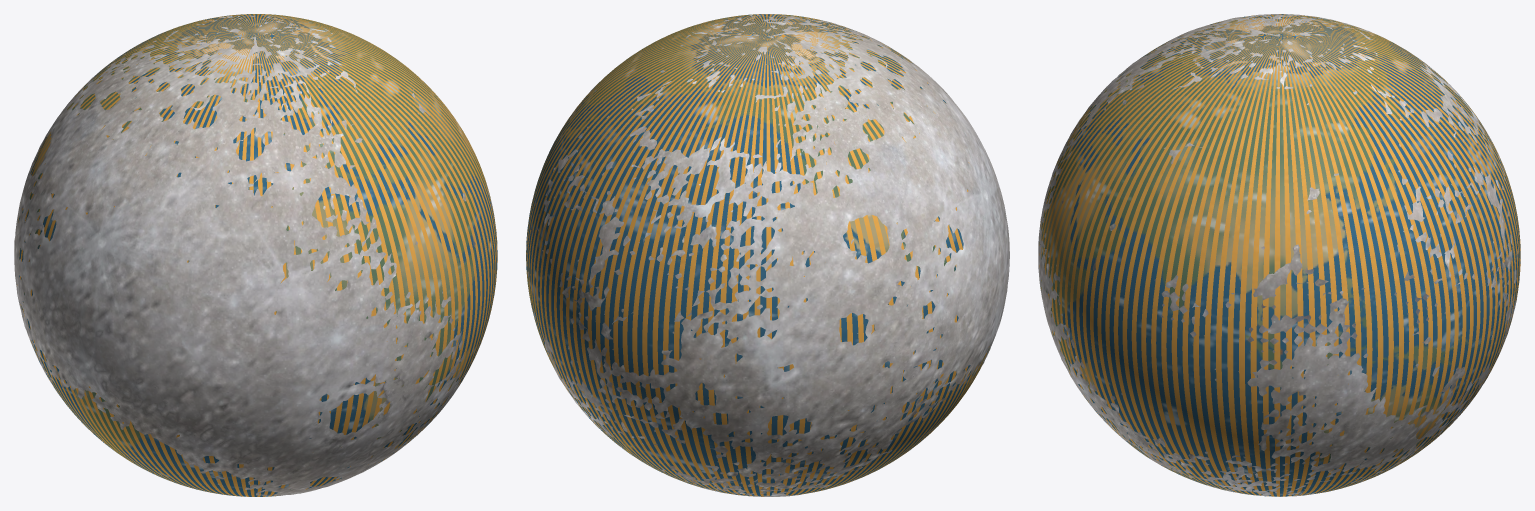
Rendered from sun-earth-moon.glb.
The picture shows the model from 3 angles, left to right: view 1: azimuth 30°, elevation 25°; view 2: azimuth 150°, elevation 25°; view 3: azimuth 270°, elevation 25°; orthographic projection.
Parts seen in each view (by area): view 1: moon-body, sun-body, earth-body; view 2: moon-body, earth-body, sun-body; view 3: sun-body, earth-body, moon-body.
Boxes of the visible parts, left/top/right/bottom form: moon-body: left=14, top=14, right=493, bottom=495; sun-body: left=17, top=14, right=497, bottom=496; earth-body: left=18, top=14, right=497, bottom=496; moon-body: left=527, top=14, right=1009, bottom=496; earth-body: left=526, top=14, right=989, bottom=496; sun-body: left=526, top=14, right=989, bottom=496; sun-body: left=1039, top=14, right=1520, bottom=496; earth-body: left=1039, top=14, right=1520, bottom=496; moon-body: left=1038, top=14, right=1518, bottom=496.
Bounding box in the file's own units: 2 × 2 × 2.
3 materials, 3 textured.
